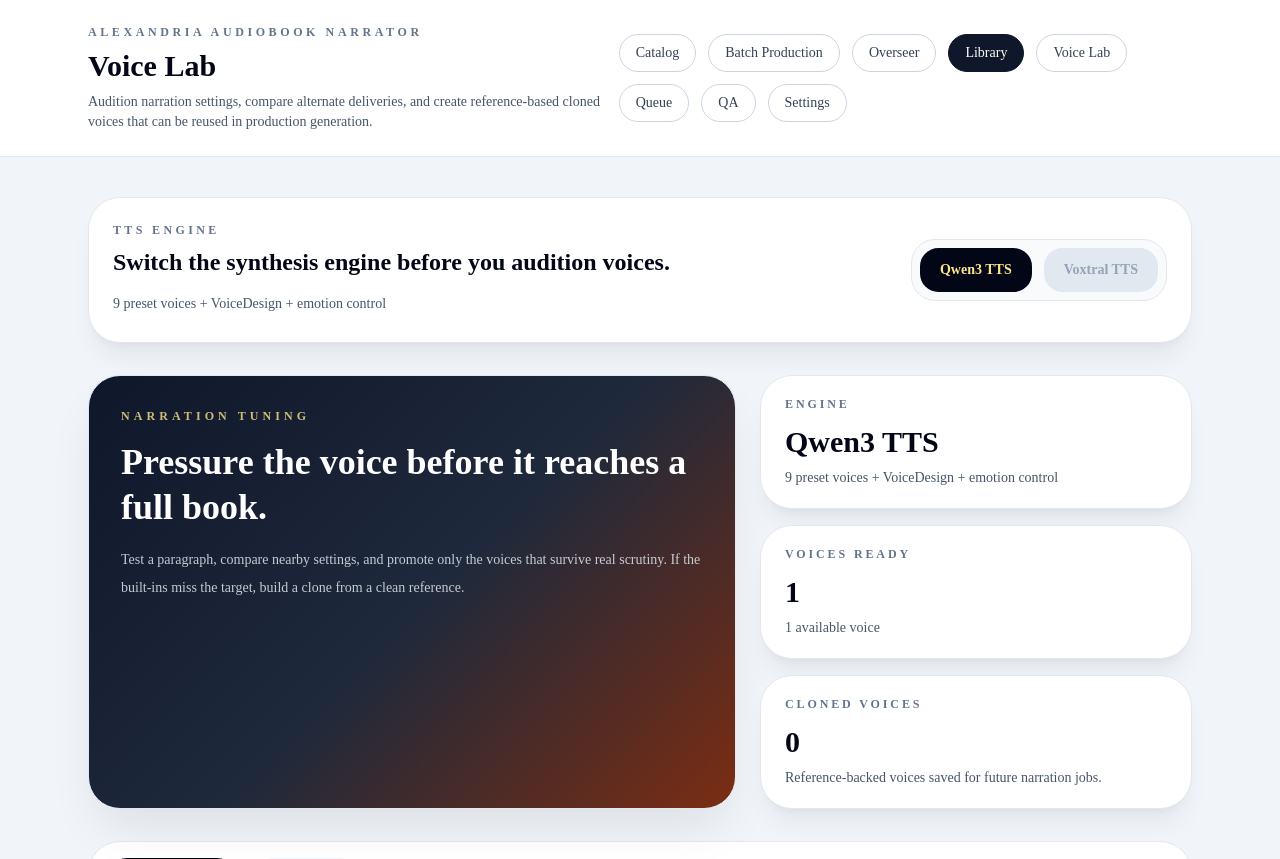
VoiceLab page › shows install instructions when Voxtral is unavailable
Click the button "Voxtral TTS": coordinates (1101, 270) [1044,248,1158,292]
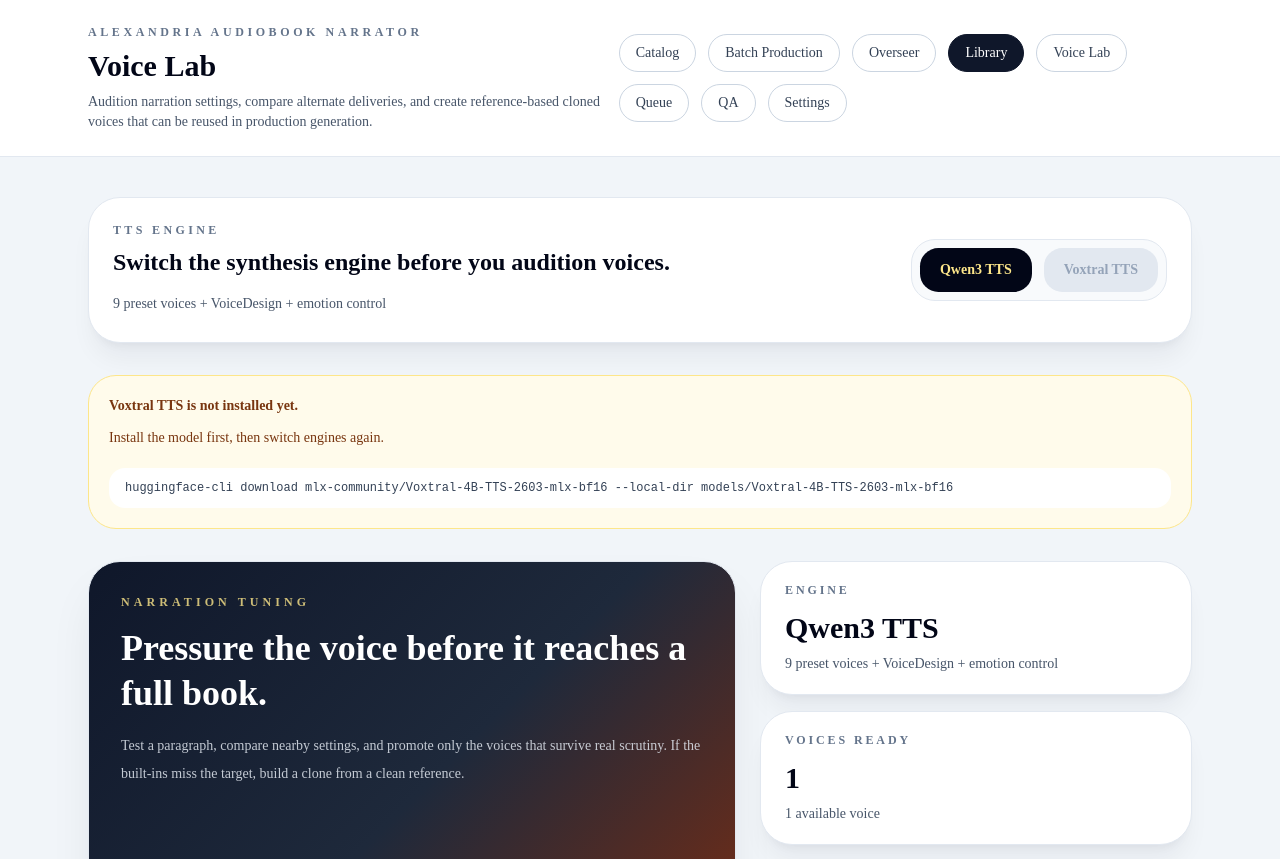
Expected: the text "Voxtral TTS is not installed yet." is shown, [109,398,298,413]
Expected: the text "huggingface-cli download mlx-community/Voxtral-4B-TTS-2603-mlx-bf16 --local-dir models/Voxtral-4B-TTS-2603-mlx-bf16" is shown, [125,481,953,495]
